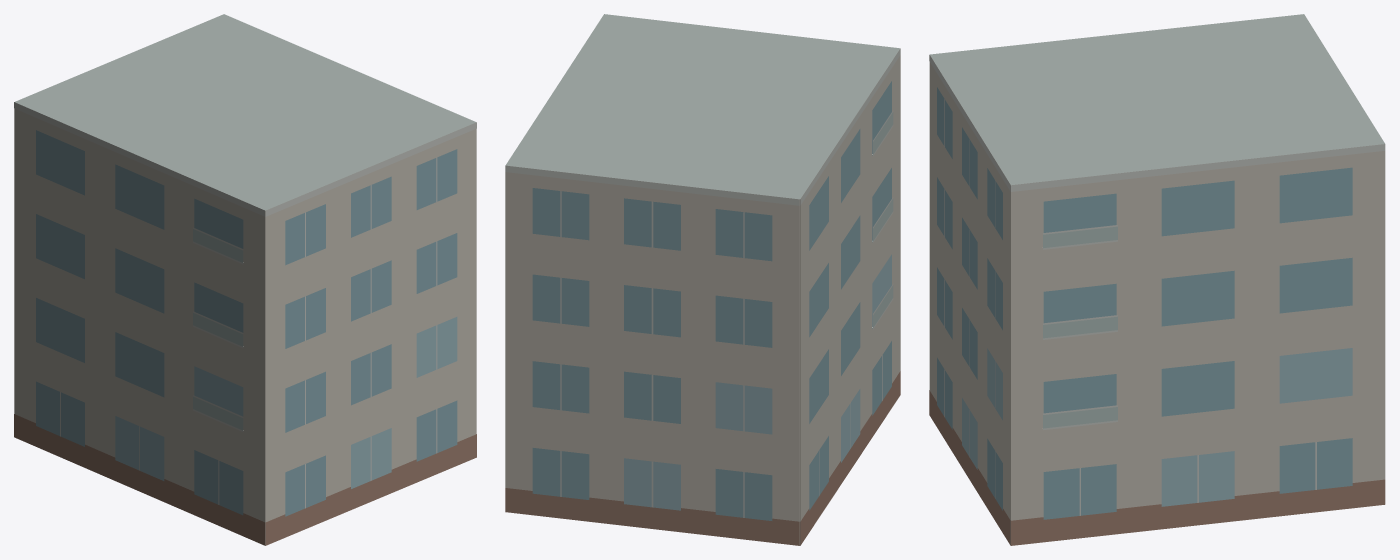
Rendered from survey-upis-32704124.glb.
3 views of the same model, side by side, from view 1: azimuth 30°, elevation 25°; view 2: azimuth 150°, elevation 25°; view 3: azimuth 270°, elevation 25° (orthographic). The views are drawn at different scales.
Visible parts, largest first — view 1: survey-upis-32704124.tmp; view 2: survey-upis-32704124.tmp; view 3: survey-upis-32704124.tmp.
Boxes of the visible parts, x1=… form: survey-upis-32704124.tmp: x1=14, y1=14, x2=476, y2=545; survey-upis-32704124.tmp: x1=505, y1=14, x2=900, y2=545; survey-upis-32704124.tmp: x1=929, y1=14, x2=1385, y2=545.
Size of the model in its own units: 13.25 by 13 by 14.9.
